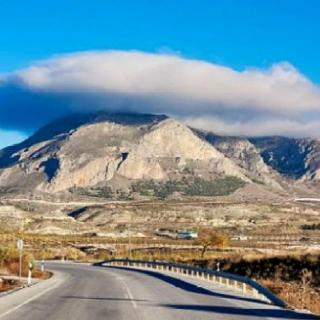Altocumulus: (0, 0, 320, 154)
